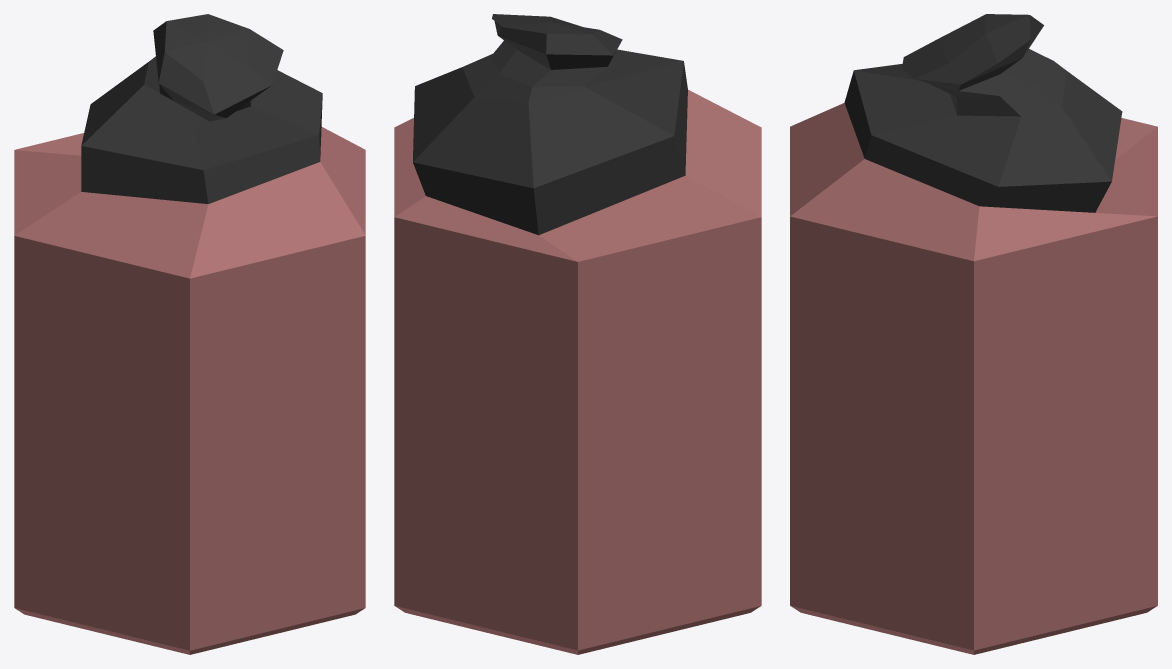
File: TurretBaseDestroyed.fbx
3 renders of one model, left to right at view 1: azimuth 30°, elevation 25°; view 2: azimuth 150°, elevation 25°; view 3: azimuth 270°, elevation 25°, orthographic. The views are drawn at different scales.
Parts seen in each view (by area): view 1: Hex; view 2: Hex; view 3: Hex.
Boxes of the visible parts, x1,y1,x2,y2 form: Hex: (14, 14, 365, 654); Hex: (394, 14, 761, 654); Hex: (790, 14, 1157, 654).
Size of the model in its own units: 10 by 14.47 by 8.66.
